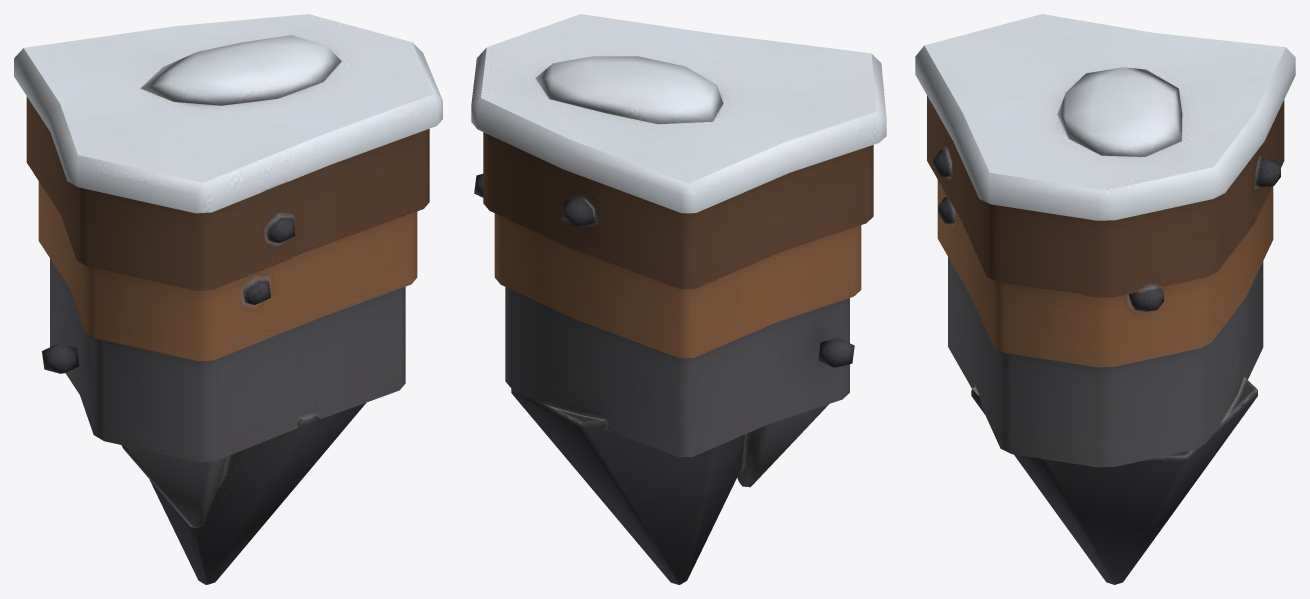
The model's file is earth_chunk.glb.
3 renders of one model, left to right at view 1: azimuth 30°, elevation 25°; view 2: azimuth 150°, elevation 25°; view 3: azimuth 270°, elevation 25°, orthographic. The views are drawn at different scales.
Parts seen in each view (by area): view 1: earth_chunk; view 2: earth_chunk; view 3: earth_chunk.
Part boxes in pixels (bbox=[...]): earth_chunk: bbox=[14, 14, 442, 584]; earth_chunk: bbox=[471, 14, 886, 584]; earth_chunk: bbox=[915, 14, 1295, 584].
Bounding box in the file's own units: 2.61 × 3.38 × 2.3.
Materials: 1 (1 with a texture image).
